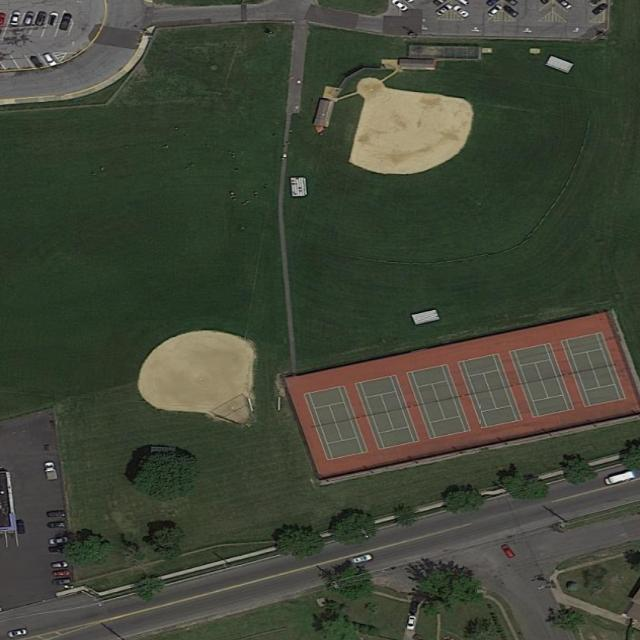small-vehicle: (603, 469, 636, 487), (42, 462, 59, 481), (590, 2, 611, 17), (434, 3, 455, 18), (41, 51, 59, 68), (499, 543, 517, 560), (58, 14, 73, 33), (453, 5, 472, 19), (28, 55, 46, 69), (7, 628, 28, 640), (351, 553, 373, 564), (503, 5, 521, 18), (48, 545, 71, 555), (34, 12, 49, 27), (47, 12, 61, 28), (487, 5, 503, 18), (10, 11, 23, 26), (22, 11, 35, 26), (50, 560, 69, 570), (47, 536, 68, 545), (406, 616, 417, 631), (409, 601, 420, 616), (46, 510, 66, 518), (47, 521, 66, 528), (52, 569, 70, 576), (16, 521, 25, 534), (52, 579, 71, 585)
